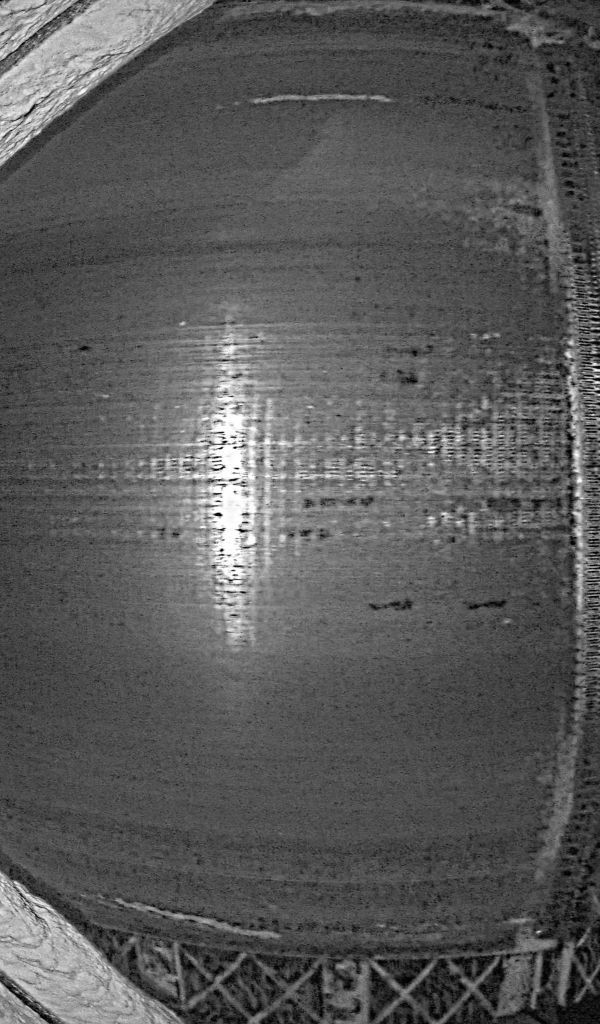splice: (516, 1, 598, 953)
